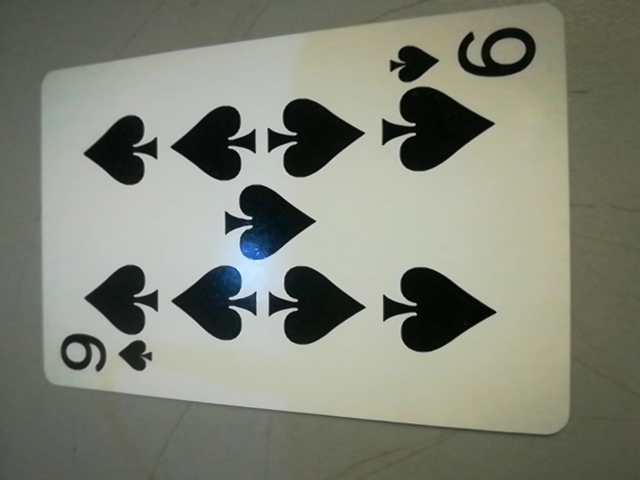ht 9: (375, 22, 557, 86)
